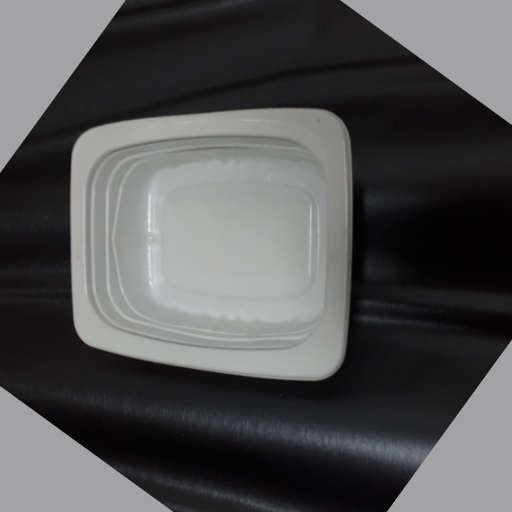Plastic_4: (68, 99, 353, 385)
